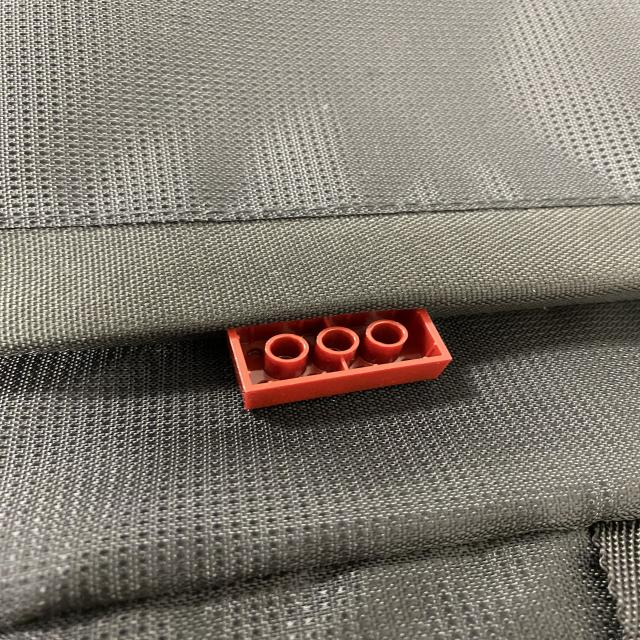C4x2x1: (220, 302, 457, 392), (250, 356, 457, 411)
